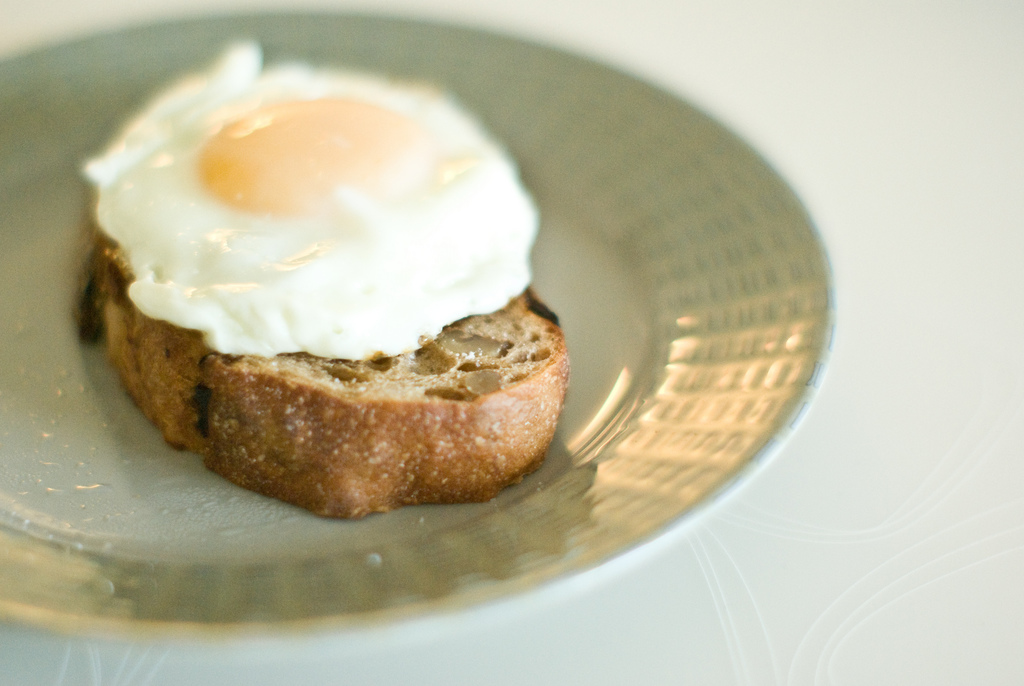fried egg: (117, 61, 545, 348)
slice of bread: (99, 330, 611, 509)
